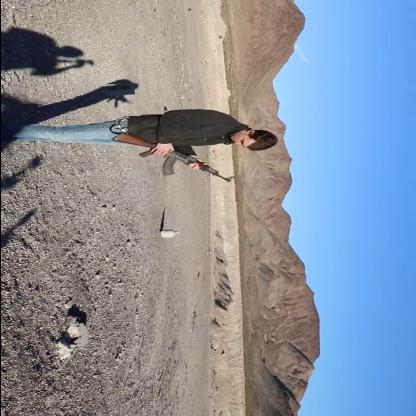long weapon: (115, 132, 233, 186)
